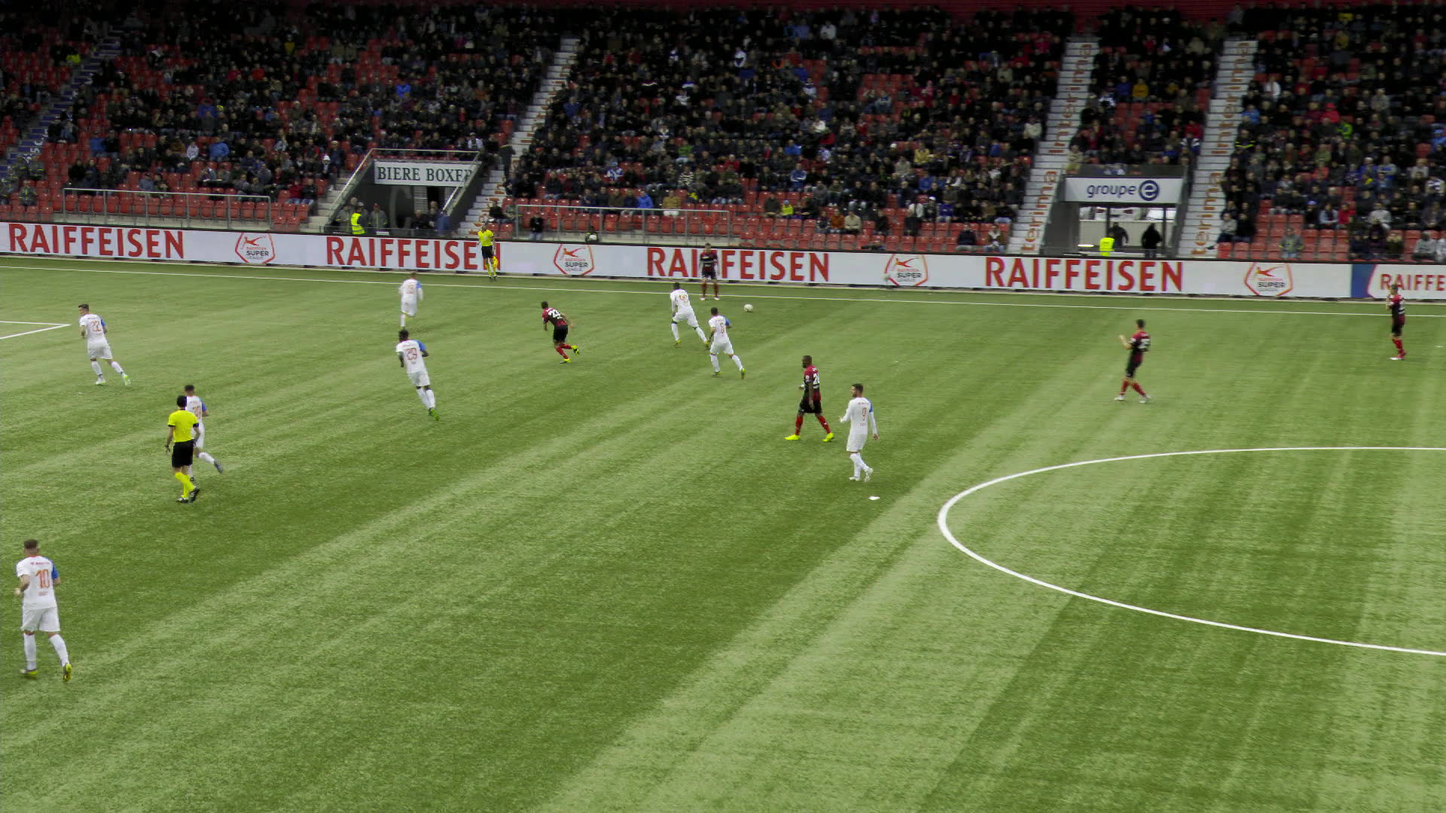ball: (744, 303, 754, 311)
player: (14, 541, 72, 678), (834, 382, 877, 483), (394, 331, 441, 418), (76, 304, 125, 385), (178, 383, 216, 482), (789, 353, 829, 440), (1109, 317, 1149, 402), (538, 300, 580, 363), (703, 307, 741, 376), (668, 280, 703, 346), (1383, 283, 1405, 361), (394, 269, 422, 328), (694, 240, 718, 299)
referee: (165, 395, 201, 504), (476, 223, 499, 280)
